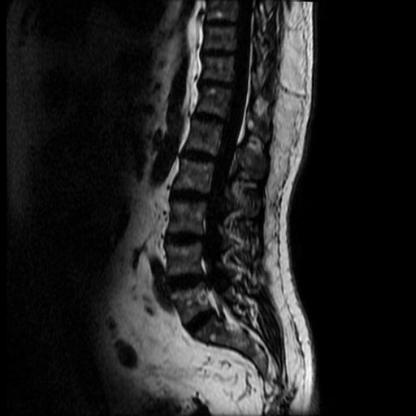Disc Bulgerotation: (182, 311, 222, 335)
Disc Relaxationrotation: (162, 184, 214, 296), (183, 308, 224, 332)
